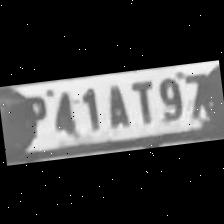1: (72, 81, 102, 133)
4: (44, 84, 79, 138)
7: (180, 68, 215, 123)
9: (151, 70, 184, 122)
A: (98, 78, 132, 130)
P: (14, 90, 50, 142)
T: (124, 74, 157, 125)
